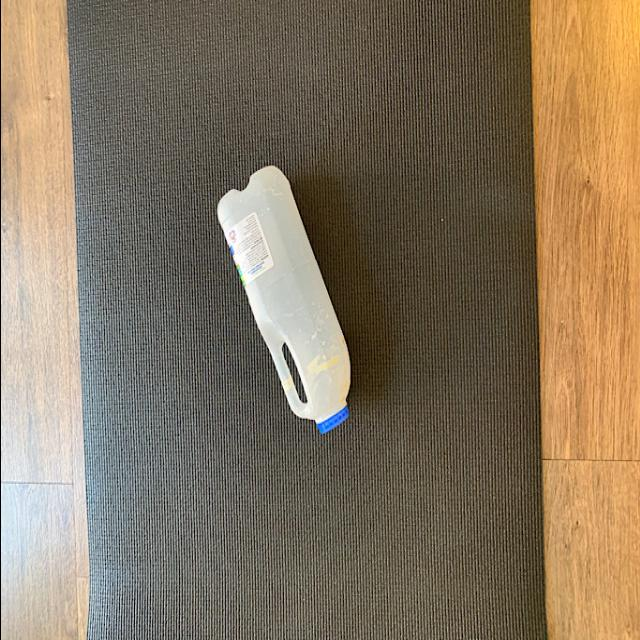HDPEM: (212, 165, 348, 439)
